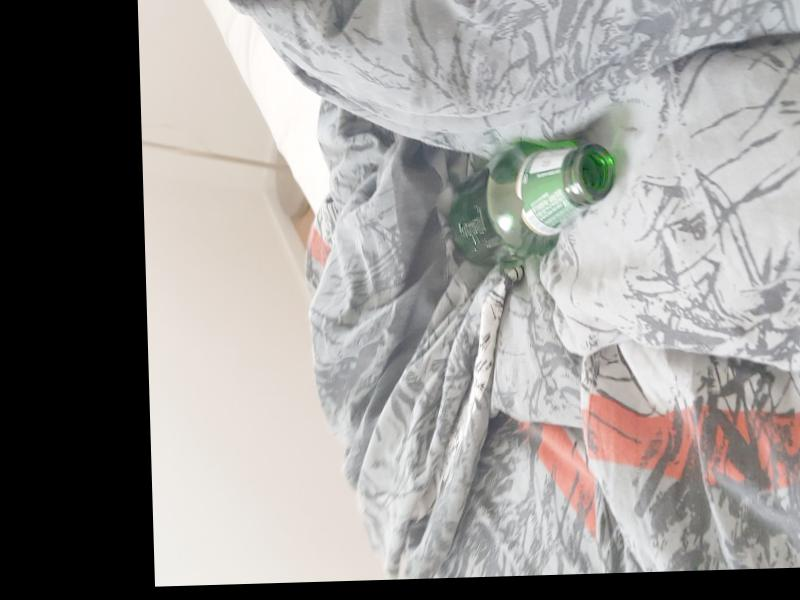Beer: (445, 138, 618, 266)
